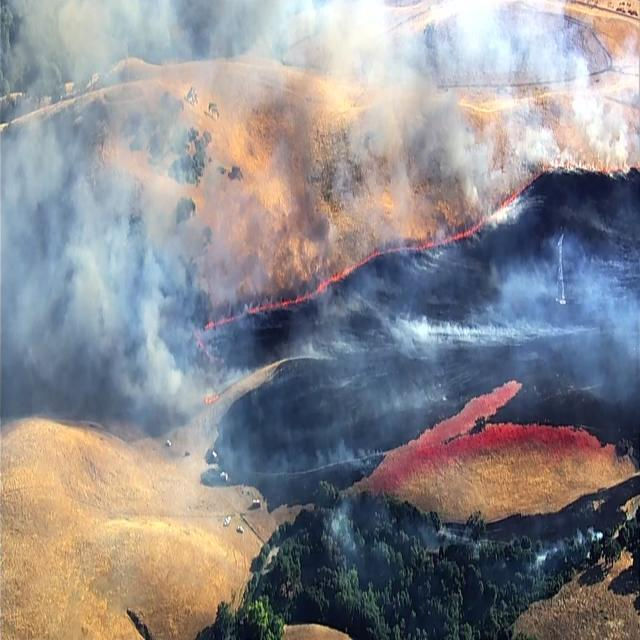Fire: (196, 168, 544, 342)
Smoke: (0, 0, 249, 453), (322, 0, 517, 225), (430, 0, 640, 196), (386, 240, 640, 395)
